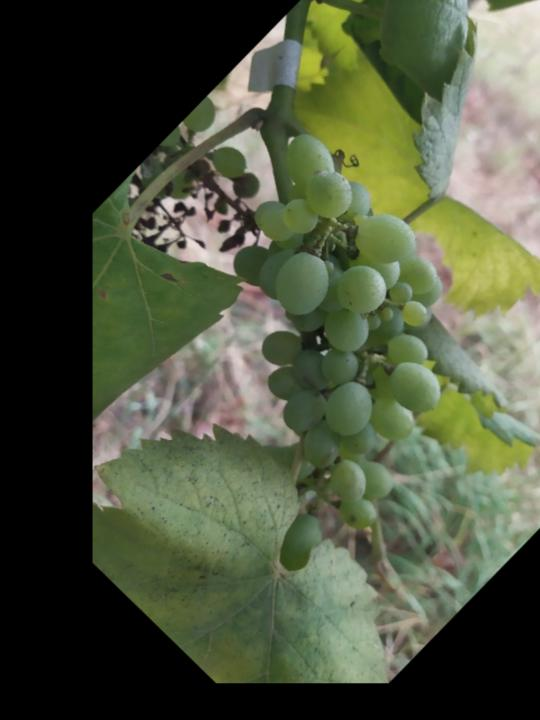grape: (121, 120, 540, 540)
